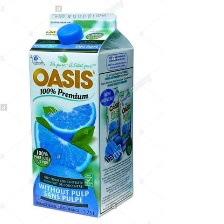carton: (27, 11, 142, 218)
